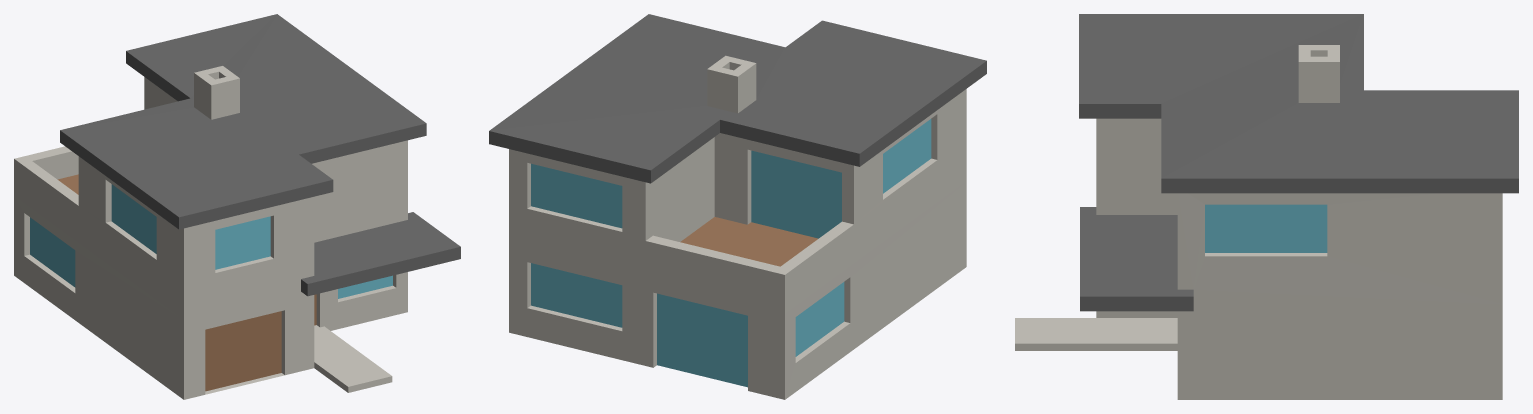
File: house_modern.gltf
3 renders of one model, left to right at view 1: azimuth 30°, elevation 25°; view 2: azimuth 150°, elevation 25°; view 3: azimuth 270°, elevation 25°, orthographic. The views are drawn at different scales.
Parts seen in each view (by area): view 1: house-modern_Cube.037, doorway walkup.002, chimney.003; view 2: house-modern_Cube.037, chimney.003; view 3: house-modern_Cube.037, doorway walkup.002, chimney.003.
Boxes of the visible parts, x1,y1,x2,y2 form: house-modern_Cube.037: [14, 14, 460, 399]; doorway walkup.002: [314, 325, 392, 392]; chimney.003: [194, 66, 239, 119]; house-modern_Cube.037: [489, 14, 986, 399]; chimney.003: [707, 55, 756, 113]; house-modern_Cube.037: [1079, 14, 1518, 399]; doorway walkup.002: [1015, 318, 1177, 350]; chimney.003: [1298, 45, 1339, 102].
Size of the model in its own units: 4.8 by 3.66 by 6.2.
1 material, 1 textured.
